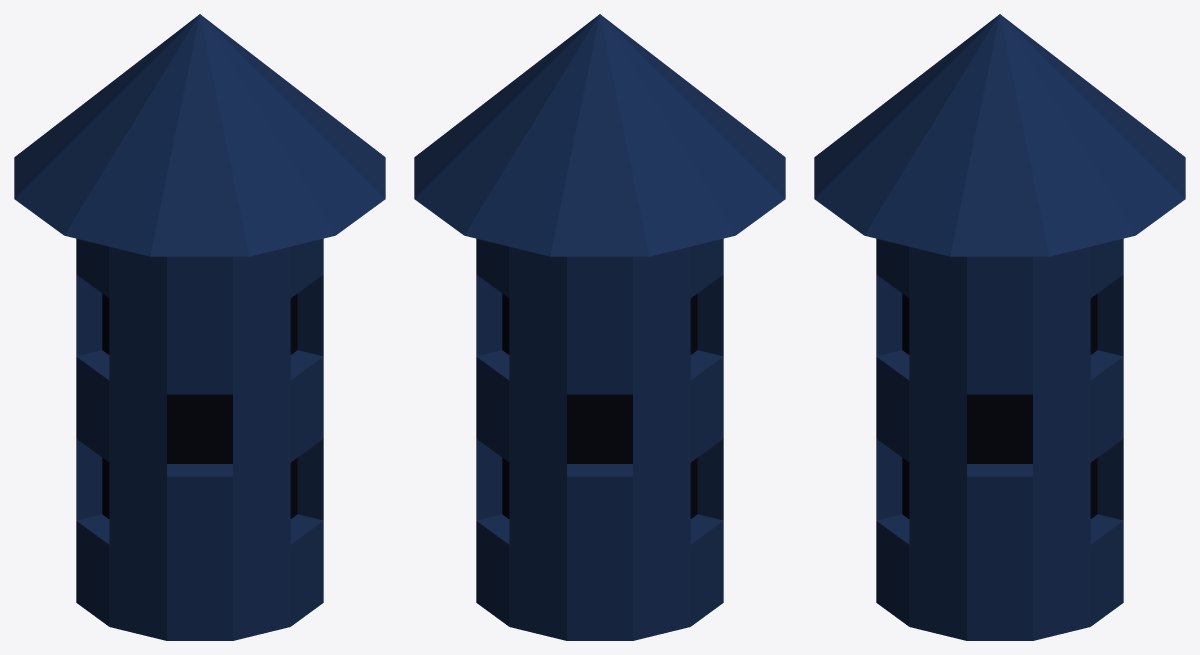
Rendered from MagicalTower.obj.
3 views of the same model, side by side, from view 1: azimuth 30°, elevation 25°; view 2: azimuth 150°, elevation 25°; view 3: azimuth 270°, elevation 25° (orthographic).
Visible parts, largest first — view 1: pCylinder2; view 2: pCylinder2; view 3: pCylinder2.
Boxes of the visible parts, x1,y1,x2,y2 form: pCylinder2: (14,14,385,640); pCylinder2: (414,14,785,640); pCylinder2: (814,14,1185,640).
Bounding box in the file's own units: 2.9 × 4.95 × 2.9.
